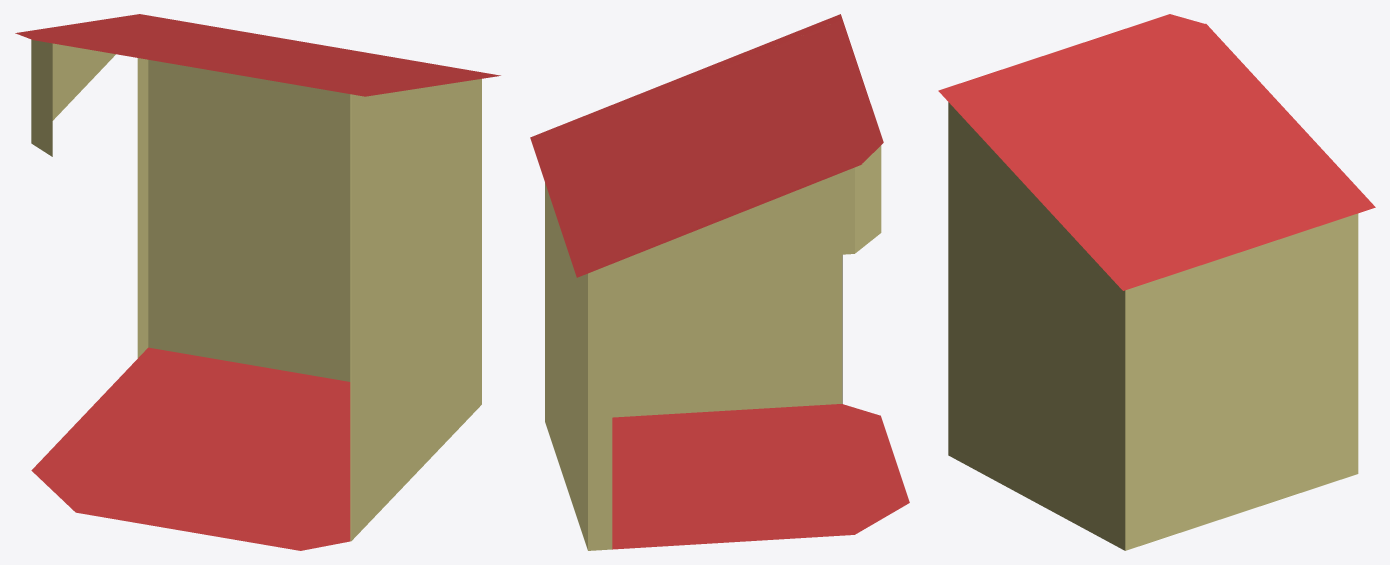
3 renders of one model, left to right at view 1: azimuth 30°, elevation 25°; view 2: azimuth 150°, elevation 25°; view 3: azimuth 270°, elevation 25°, orthographic. The views are drawn at different scales.
Bounding box in the file's own units: 8.35 × 8.75 × 8.11.
